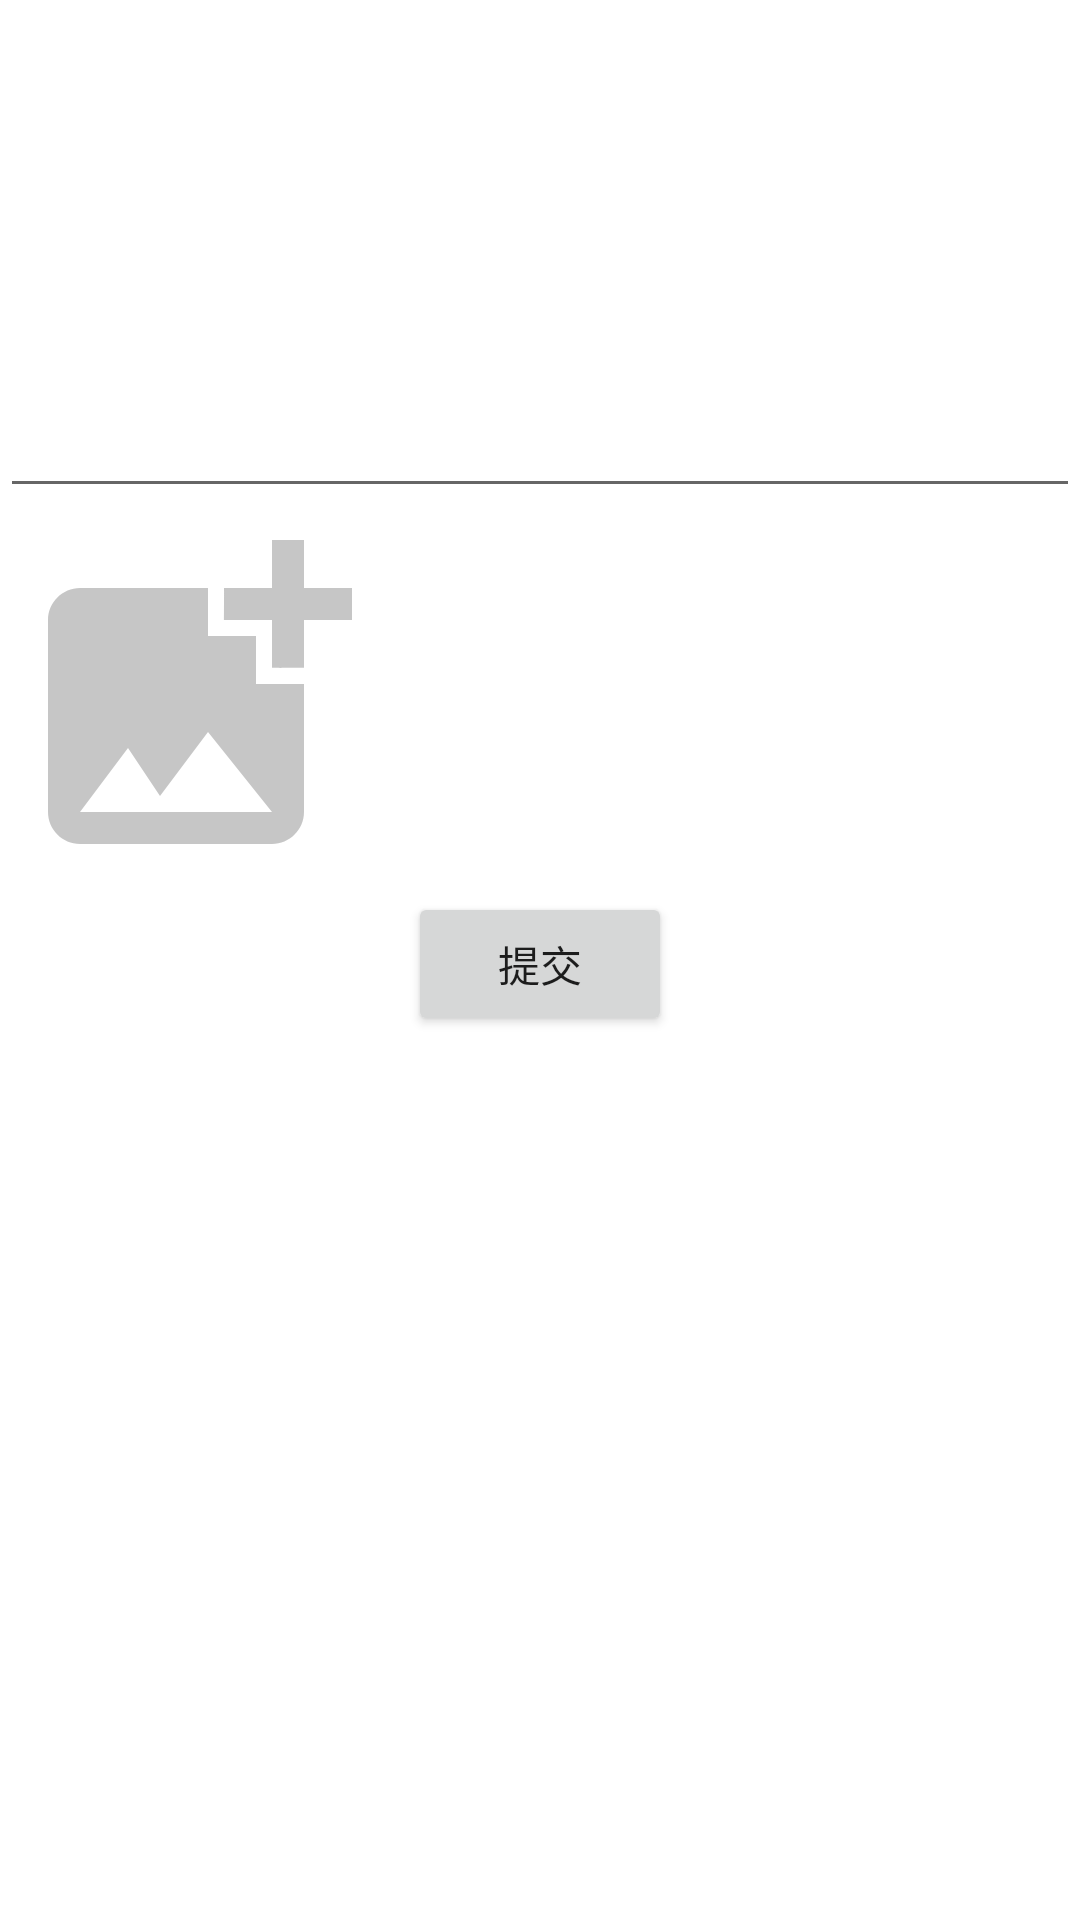

Screen size 1080w x 1920h. Icon name, then its center in pixels as point (x, y):
add photo alternate: point (200, 692)
